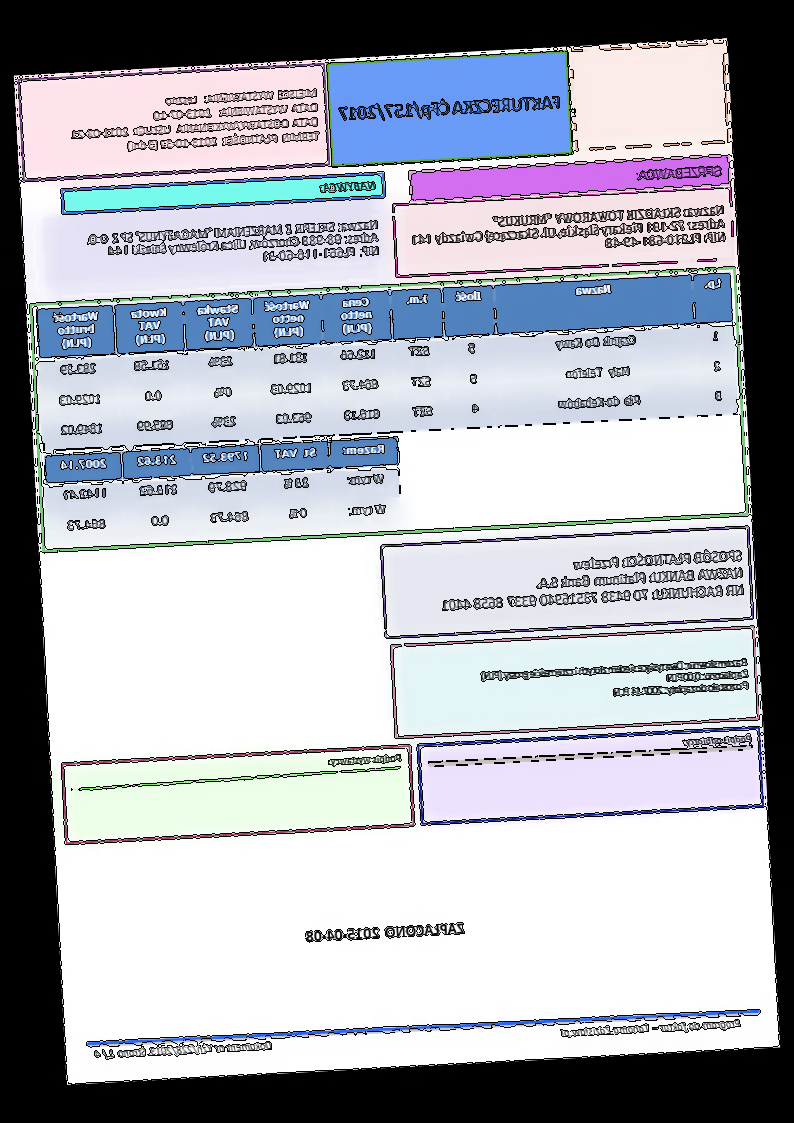Table: (38, 269, 741, 449), (42, 434, 405, 546)
TextBox: (436, 544, 750, 616), (409, 198, 729, 264), (65, 84, 326, 160), (83, 213, 384, 275), (476, 653, 752, 707), (336, 85, 568, 127), (558, 1011, 747, 1045), (302, 915, 473, 947), (88, 1037, 275, 1064), (634, 161, 727, 183), (680, 728, 756, 753), (326, 749, 410, 770), (319, 176, 380, 197)
